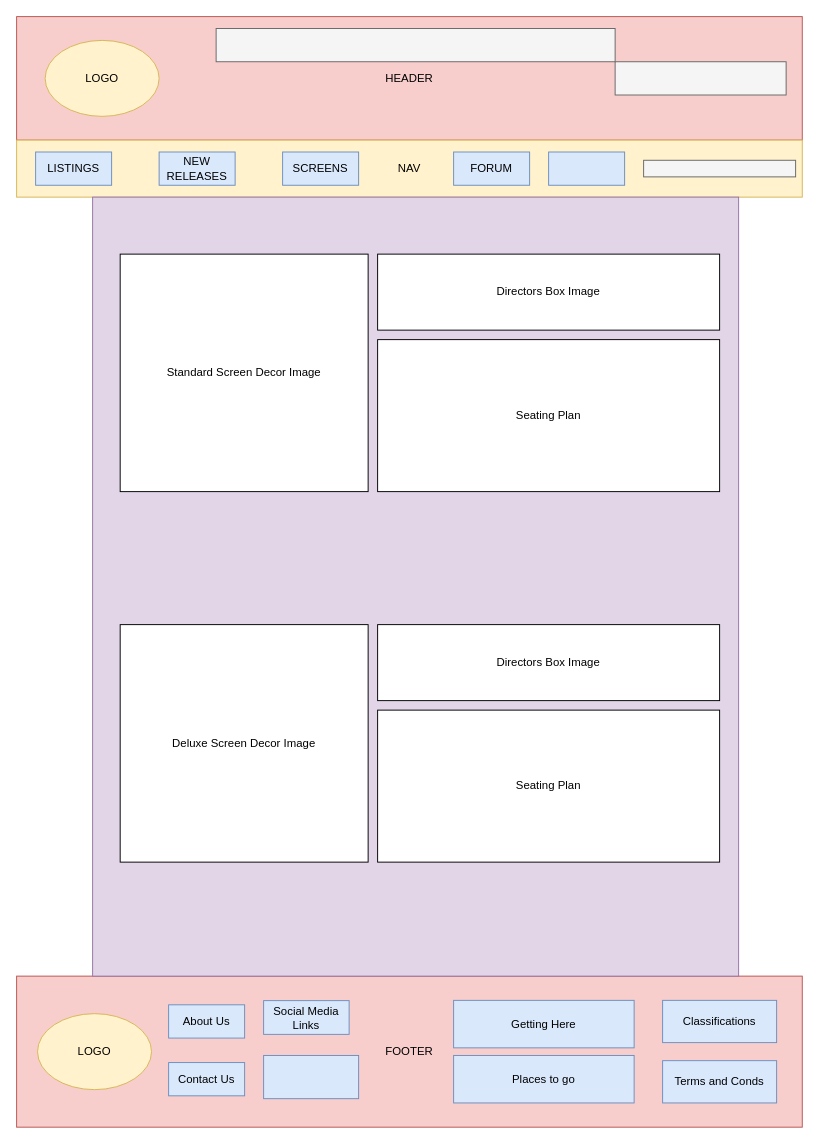
The diagram is 819 pixels wide and 1144 high, and some of its shapes have lost their labels. Each missing label, with the centre of its shape:
NAME: pixel 415 45
Opening Times: pixel 311 1076
Our Rating: pixel 700 78
Search: pixel 719 168
